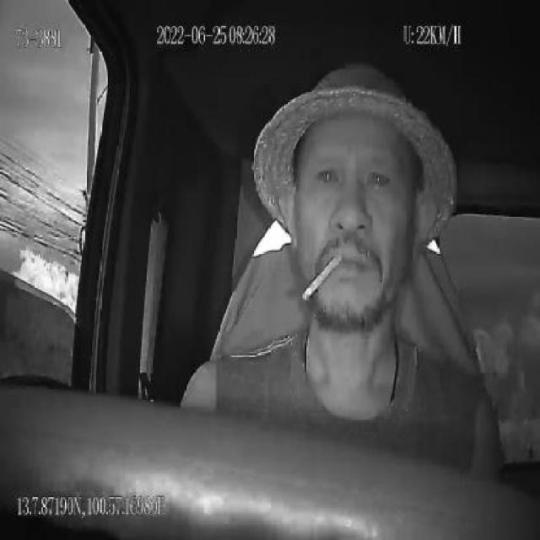smoking: (302, 253, 343, 300)
